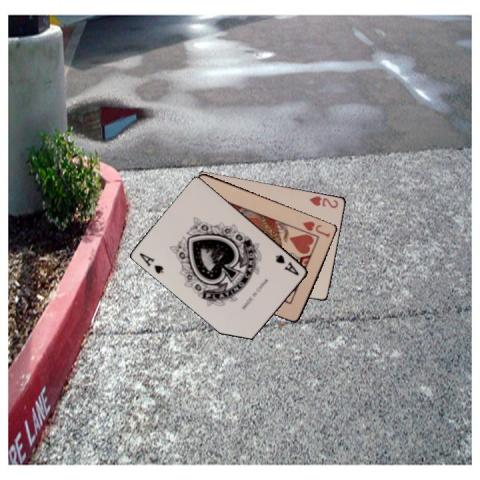2h: (307, 193, 339, 209)
As: (272, 251, 300, 277), (137, 250, 165, 275)
Jh: (300, 218, 332, 239)
